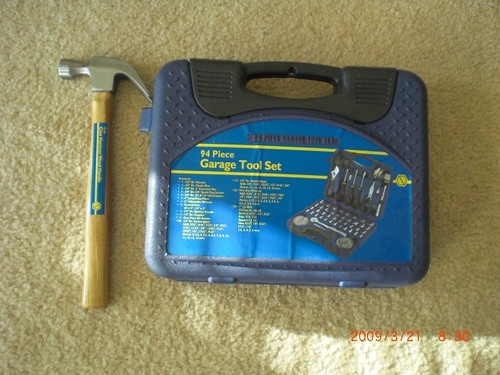hammer: (56, 56, 151, 309)
